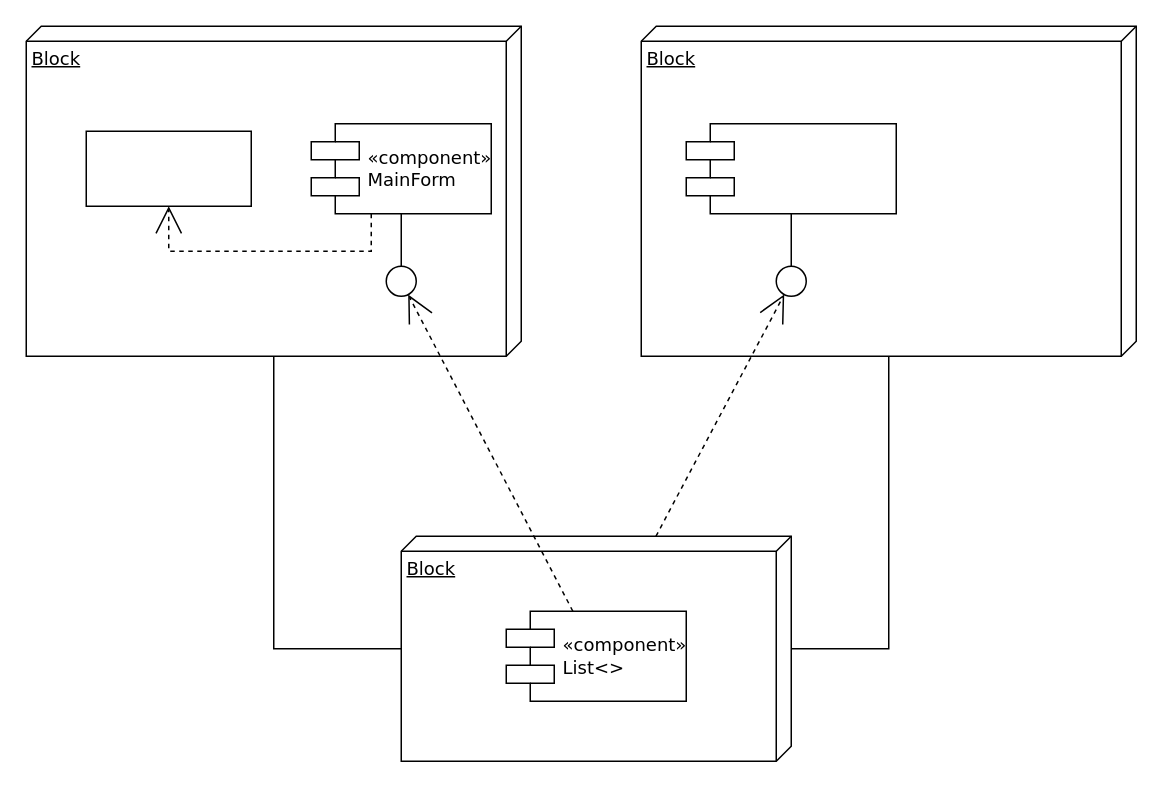
This 1163x788 diagram has some shape labels left out. Each missing label, with the centre of its shape:
«component» MovieBookData: [790,168]
«interface» Form: [168,168]
